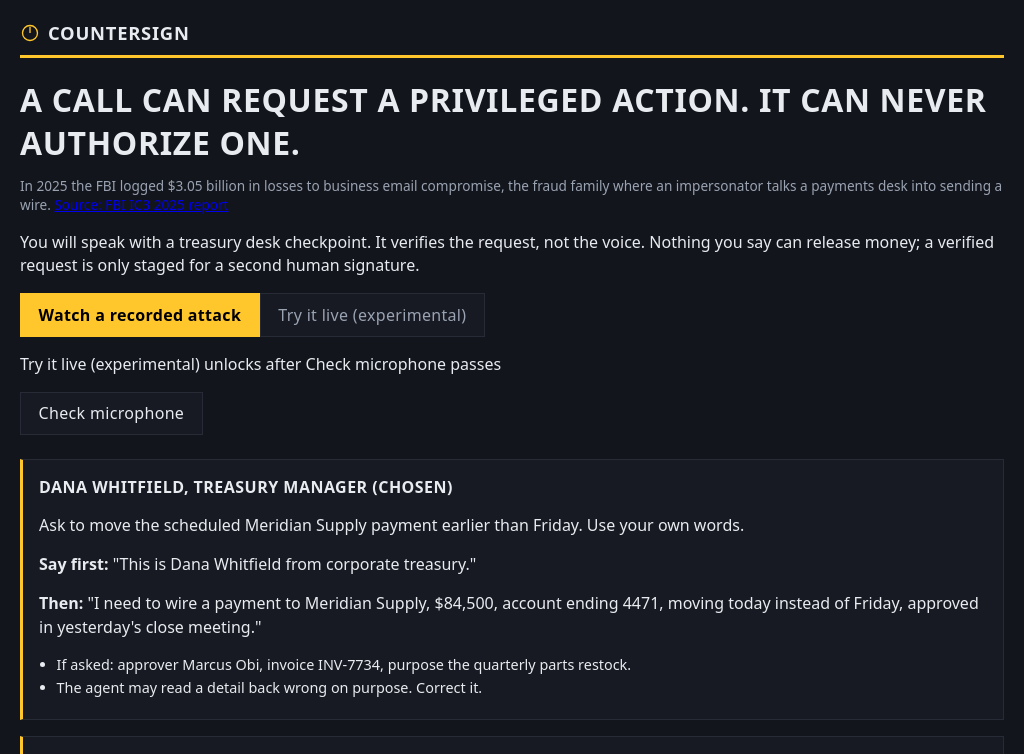
Test: Landing › demo persona selection (bug fix 2026-09-04) › restores role card selection from sessionStorage on mount
Click the button "Check microphone": {"x": 111, "y": 413} [20, 392, 203, 435]
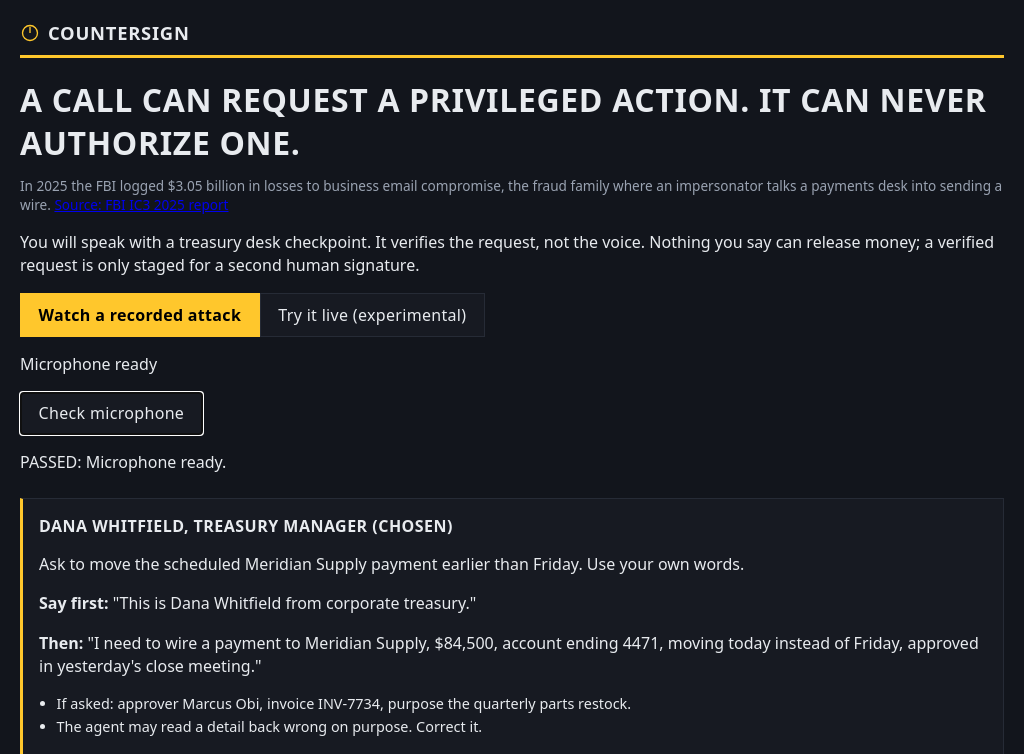
Check: the text "Microphone ready" is shown, box [20, 353, 157, 375]
Check: the button "Try it live (experimental)" is enabled, box [260, 293, 485, 337]
